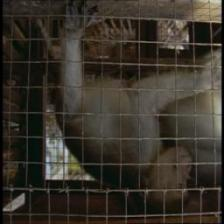monkey: (134, 143, 191, 208)
